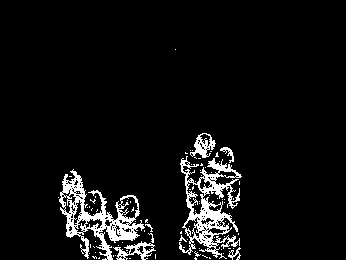person: (177, 189, 241, 260), (105, 194, 158, 260), (57, 167, 91, 260), (74, 188, 117, 260), (198, 146, 244, 213), (180, 132, 216, 217)
